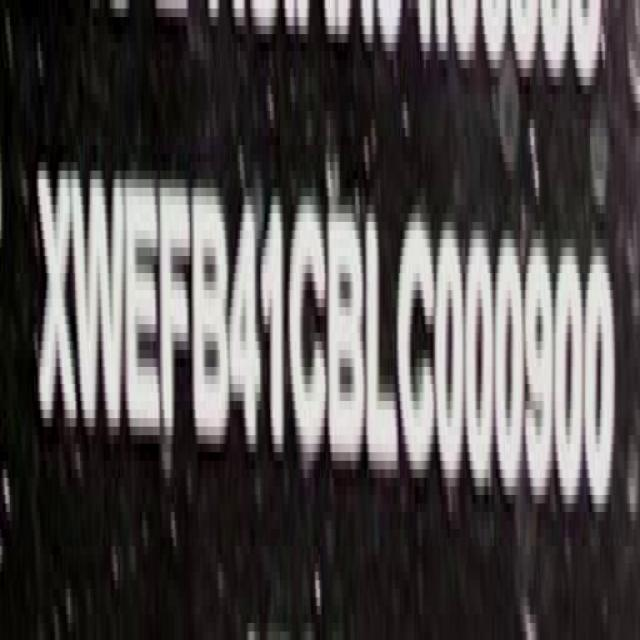0: (436, 211, 466, 488), (496, 231, 526, 498), (587, 256, 617, 516), (556, 242, 585, 507), (466, 223, 494, 494)
1: (261, 178, 288, 466)
4: (230, 187, 260, 464)
9: (525, 238, 554, 504)
B: (194, 180, 231, 462), (329, 193, 365, 477)
C: (290, 188, 330, 468), (400, 211, 438, 482)
E: (127, 174, 161, 450)
F: (161, 175, 194, 460)
L: (367, 203, 399, 478)
W: (73, 163, 127, 445)
X: (35, 151, 74, 440)
